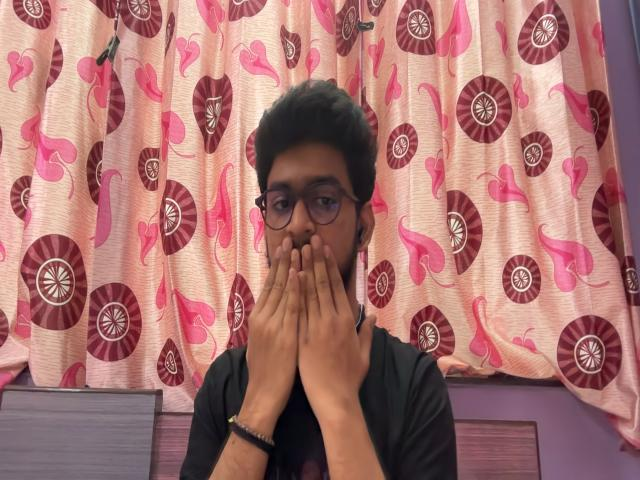Thanks: (241, 231, 384, 409)
